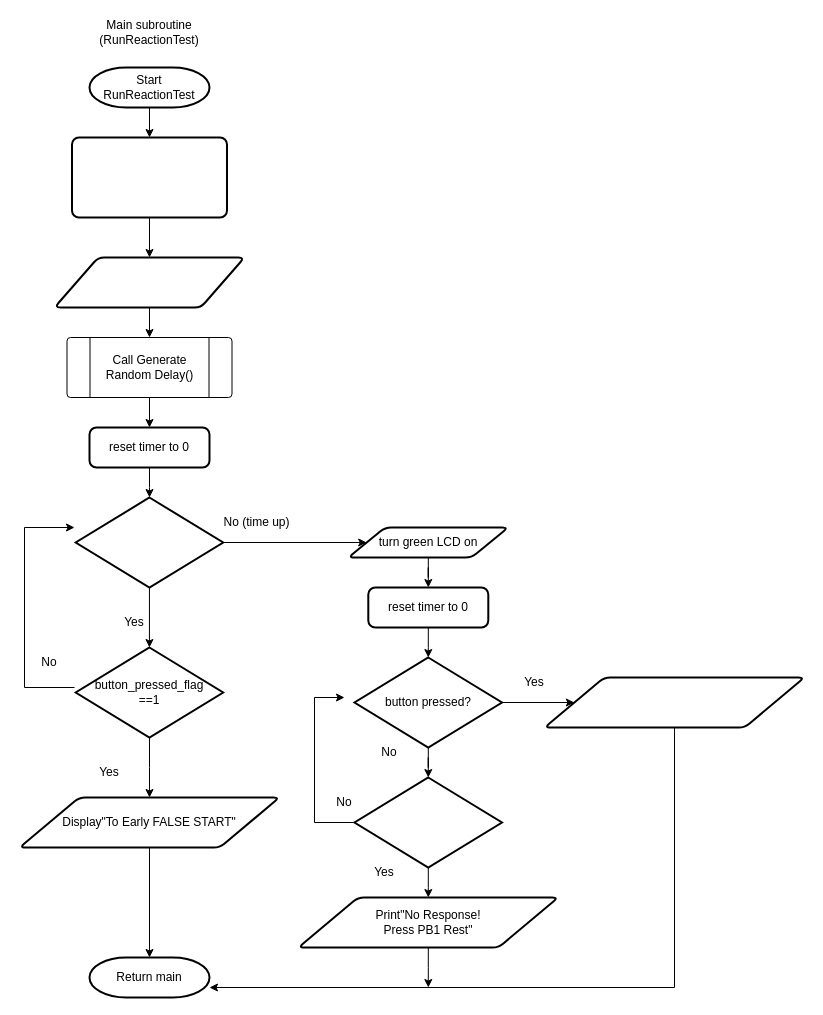
The diagram is 823 pixels wide and 1015 high, and some of its shapes have lost their labels. The shapes that lost their labels are listed below. From the top down, each one's centre as x and y in pixels, then its label:
the point at 149,177: Intialise button_pressed=0 false start =0 test_in_progress=1
the point at 149,282: Display"Wait" RED LED ON
the point at 149,542: Timer count< wait time
the point at 674,702: Print"Time: Press PB1 Reset"
the point at 427,822: Timer count>10000?
